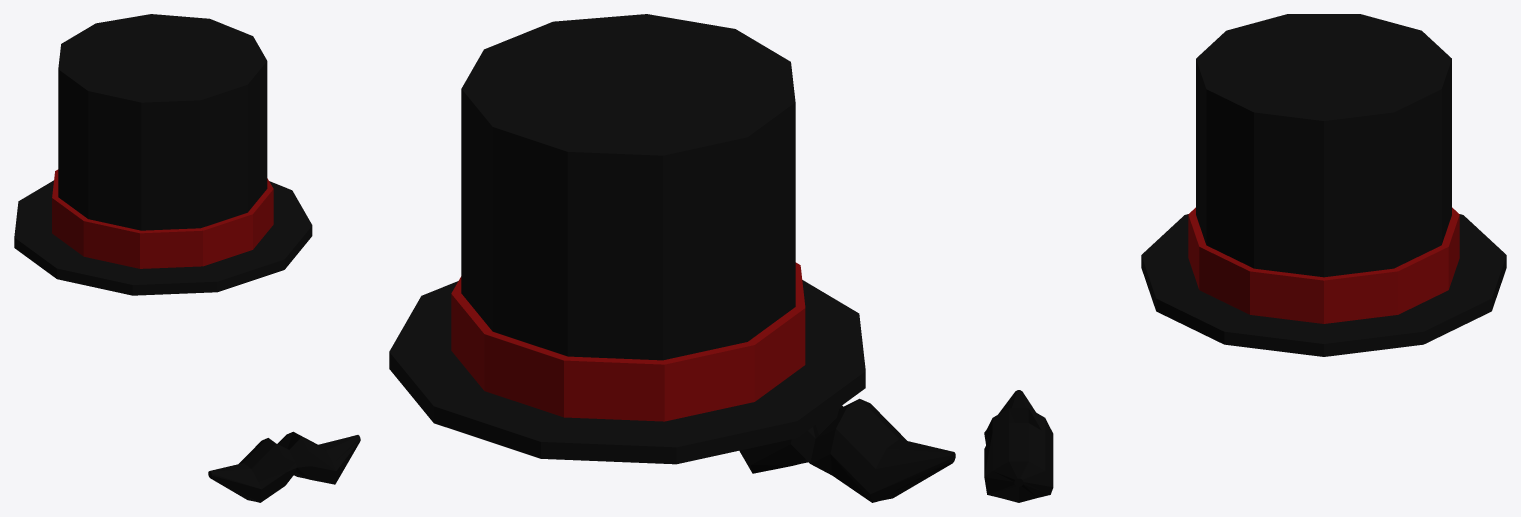
File: gentleman.fbx
3 views of the same model, side by side, from view 1: azimuth 30°, elevation 25°; view 2: azimuth 150°, elevation 25°; view 3: azimuth 270°, elevation 25° (orthographic). The views are drawn at different scales.
Visible parts, largest first — view 1: cylinder, mustache; view 2: cylinder, mustache; view 3: cylinder, mustache.
Part boxes in pixels (bbox=[...]): cylinder: bbox=[14, 14, 312, 295]; mustache: bbox=[208, 431, 360, 502]; cylinder: bbox=[389, 14, 865, 464]; mustache: bbox=[739, 398, 955, 502]; cylinder: bbox=[1141, 14, 1506, 356]; mustache: bbox=[984, 390, 1053, 502].
Size of the model in its own units: 9.54 by 12.09 by 13.78.
